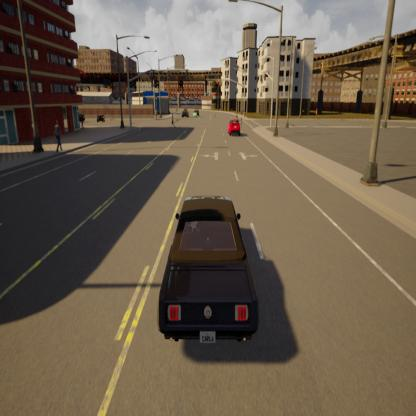Cars: (154, 185, 264, 348), (227, 114, 241, 143), (95, 109, 109, 126), (179, 102, 190, 122), (192, 103, 200, 124)
Pedestrian: (52, 118, 64, 154), (169, 109, 176, 134), (151, 105, 159, 123), (78, 110, 84, 132), (239, 109, 244, 128), (214, 106, 218, 124)
